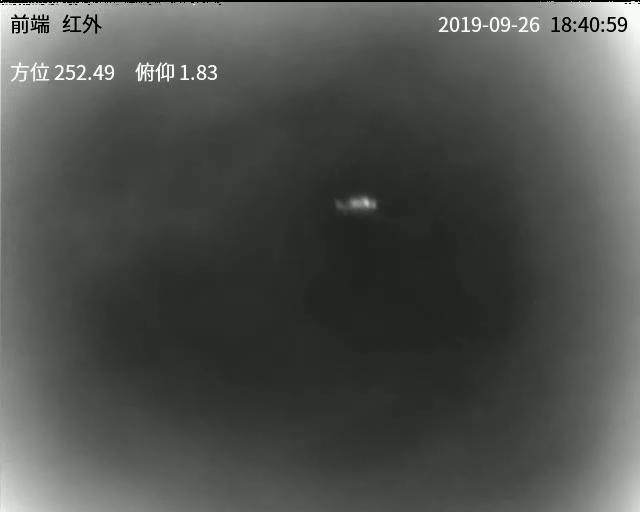uav: (334, 192, 381, 215)
